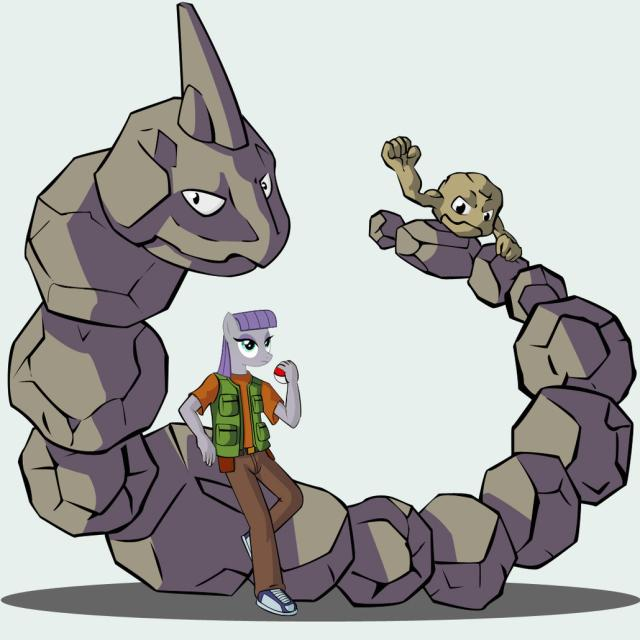Geodude: (367, 128, 534, 266)
Onix: (20, 27, 343, 606)
